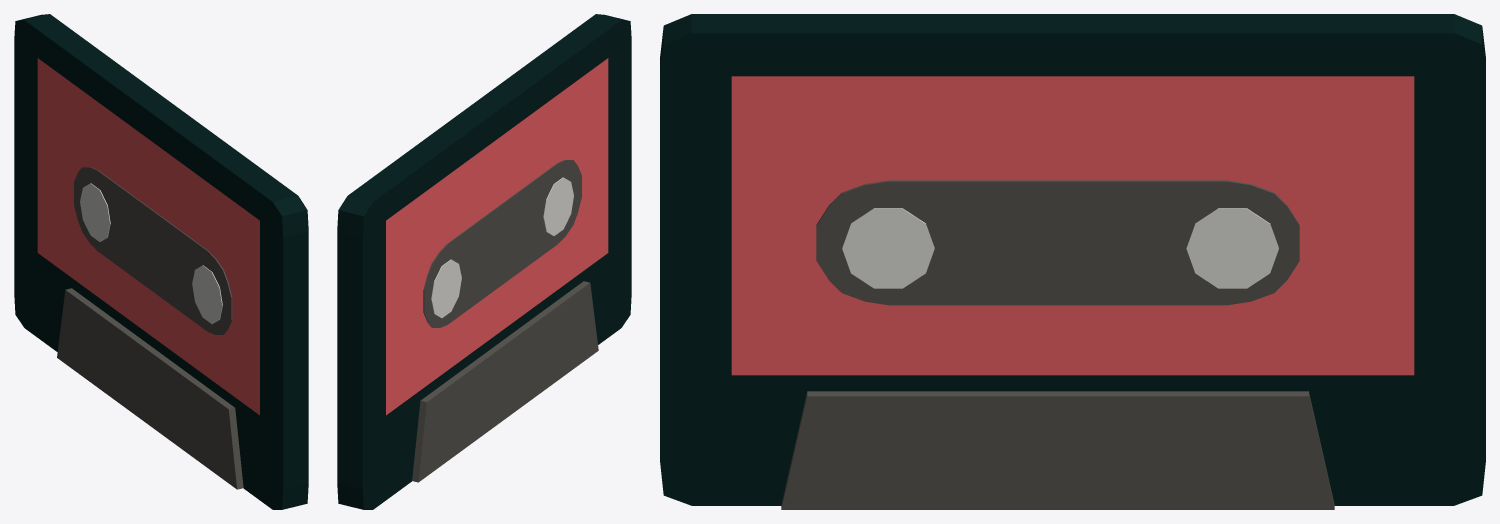
Rendered from cassette-pink.fbx.
3 renders of one model, left to right at view 1: azimuth 30°, elevation 25°; view 2: azimuth 150°, elevation 25°; view 3: azimuth 270°, elevation 25°, orthographic. The views are drawn at different scales.
Visible parts, largest first — view 1: cassette.002; view 2: cassette.002; view 3: cassette.002.
Boxes of the visible parts, x1=… form: cassette.002: x1=14, y1=14, x2=308, y2=509; cassette.002: x1=337, y1=14, x2=631, y2=509; cassette.002: x1=660, y1=14, x2=1485, y2=509.
Size of the model in its own units: 74.85 by 571 by 905.
